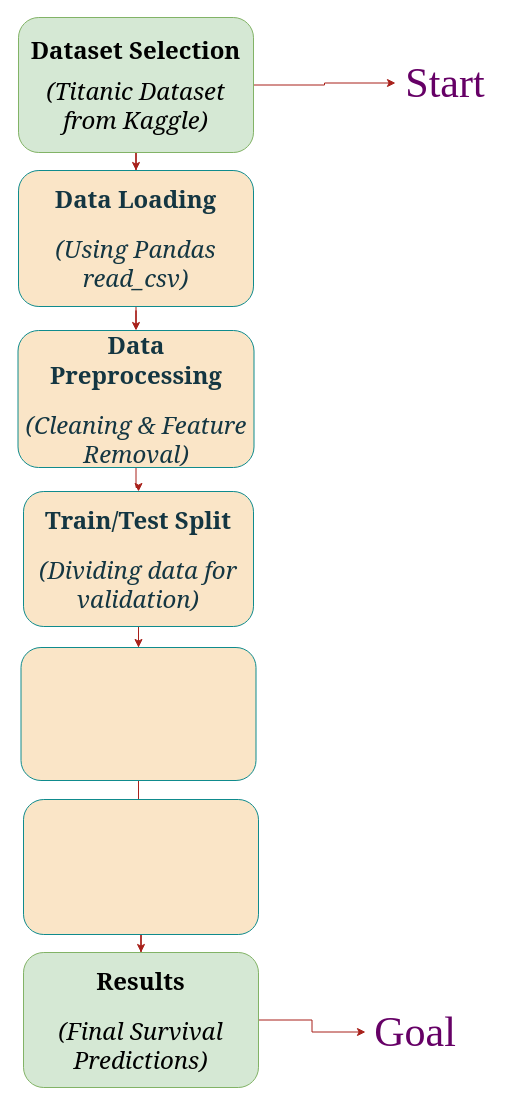
This 512x1111 diagram has some shape labels left out. Here are the shapes that lost their labels. From the top down, the centre of each, then its label:
the point at 138,713: Model Training (Classification Algorithm)
the point at 140,866: Model Evaluation (Checking Accuracy Metrics)
